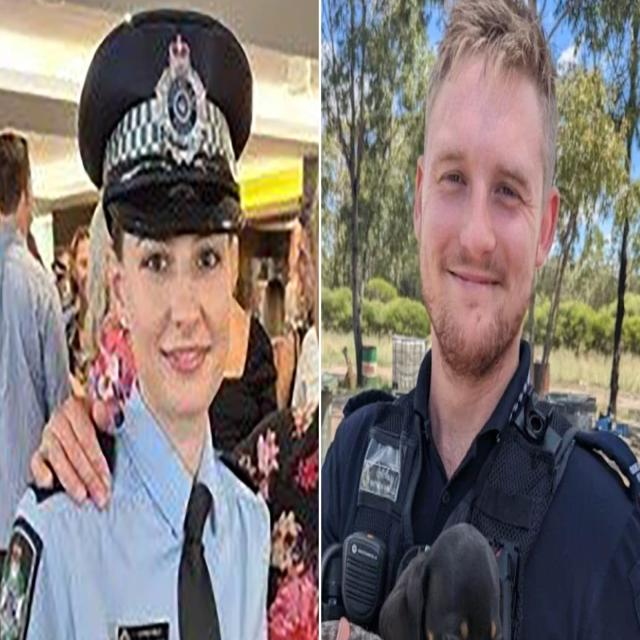police: (322, 6, 636, 640), (14, 0, 271, 640)
